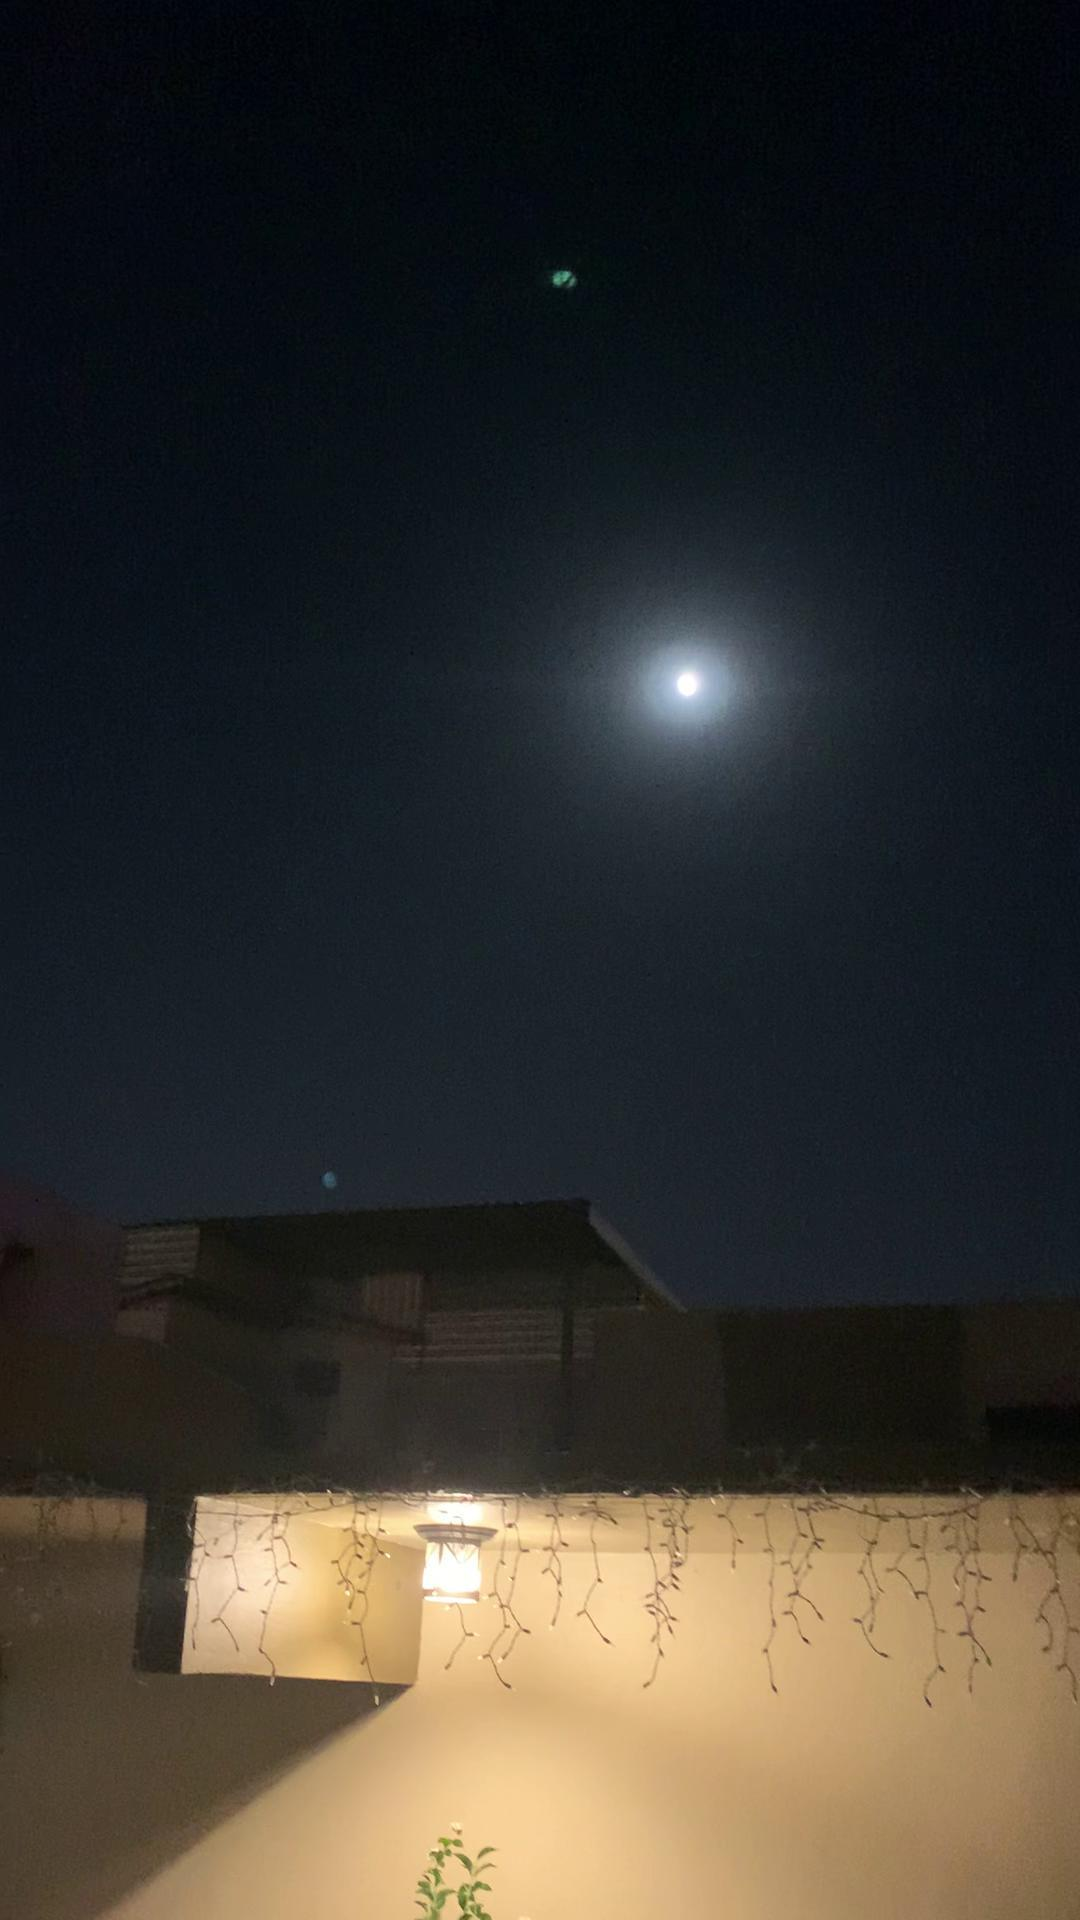moon: (657, 636, 744, 715)
